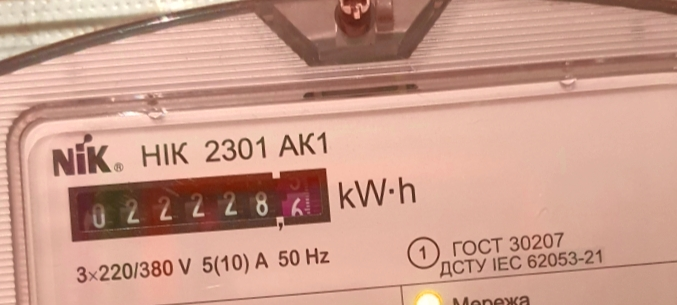0: (89, 200, 107, 230)
2: (121, 195, 142, 226), (220, 189, 240, 218), (155, 193, 174, 223), (187, 190, 206, 219)
5: (286, 171, 303, 193)
6: (287, 195, 305, 217)
8: (252, 189, 270, 218)
screen: (58, 155, 341, 252)
